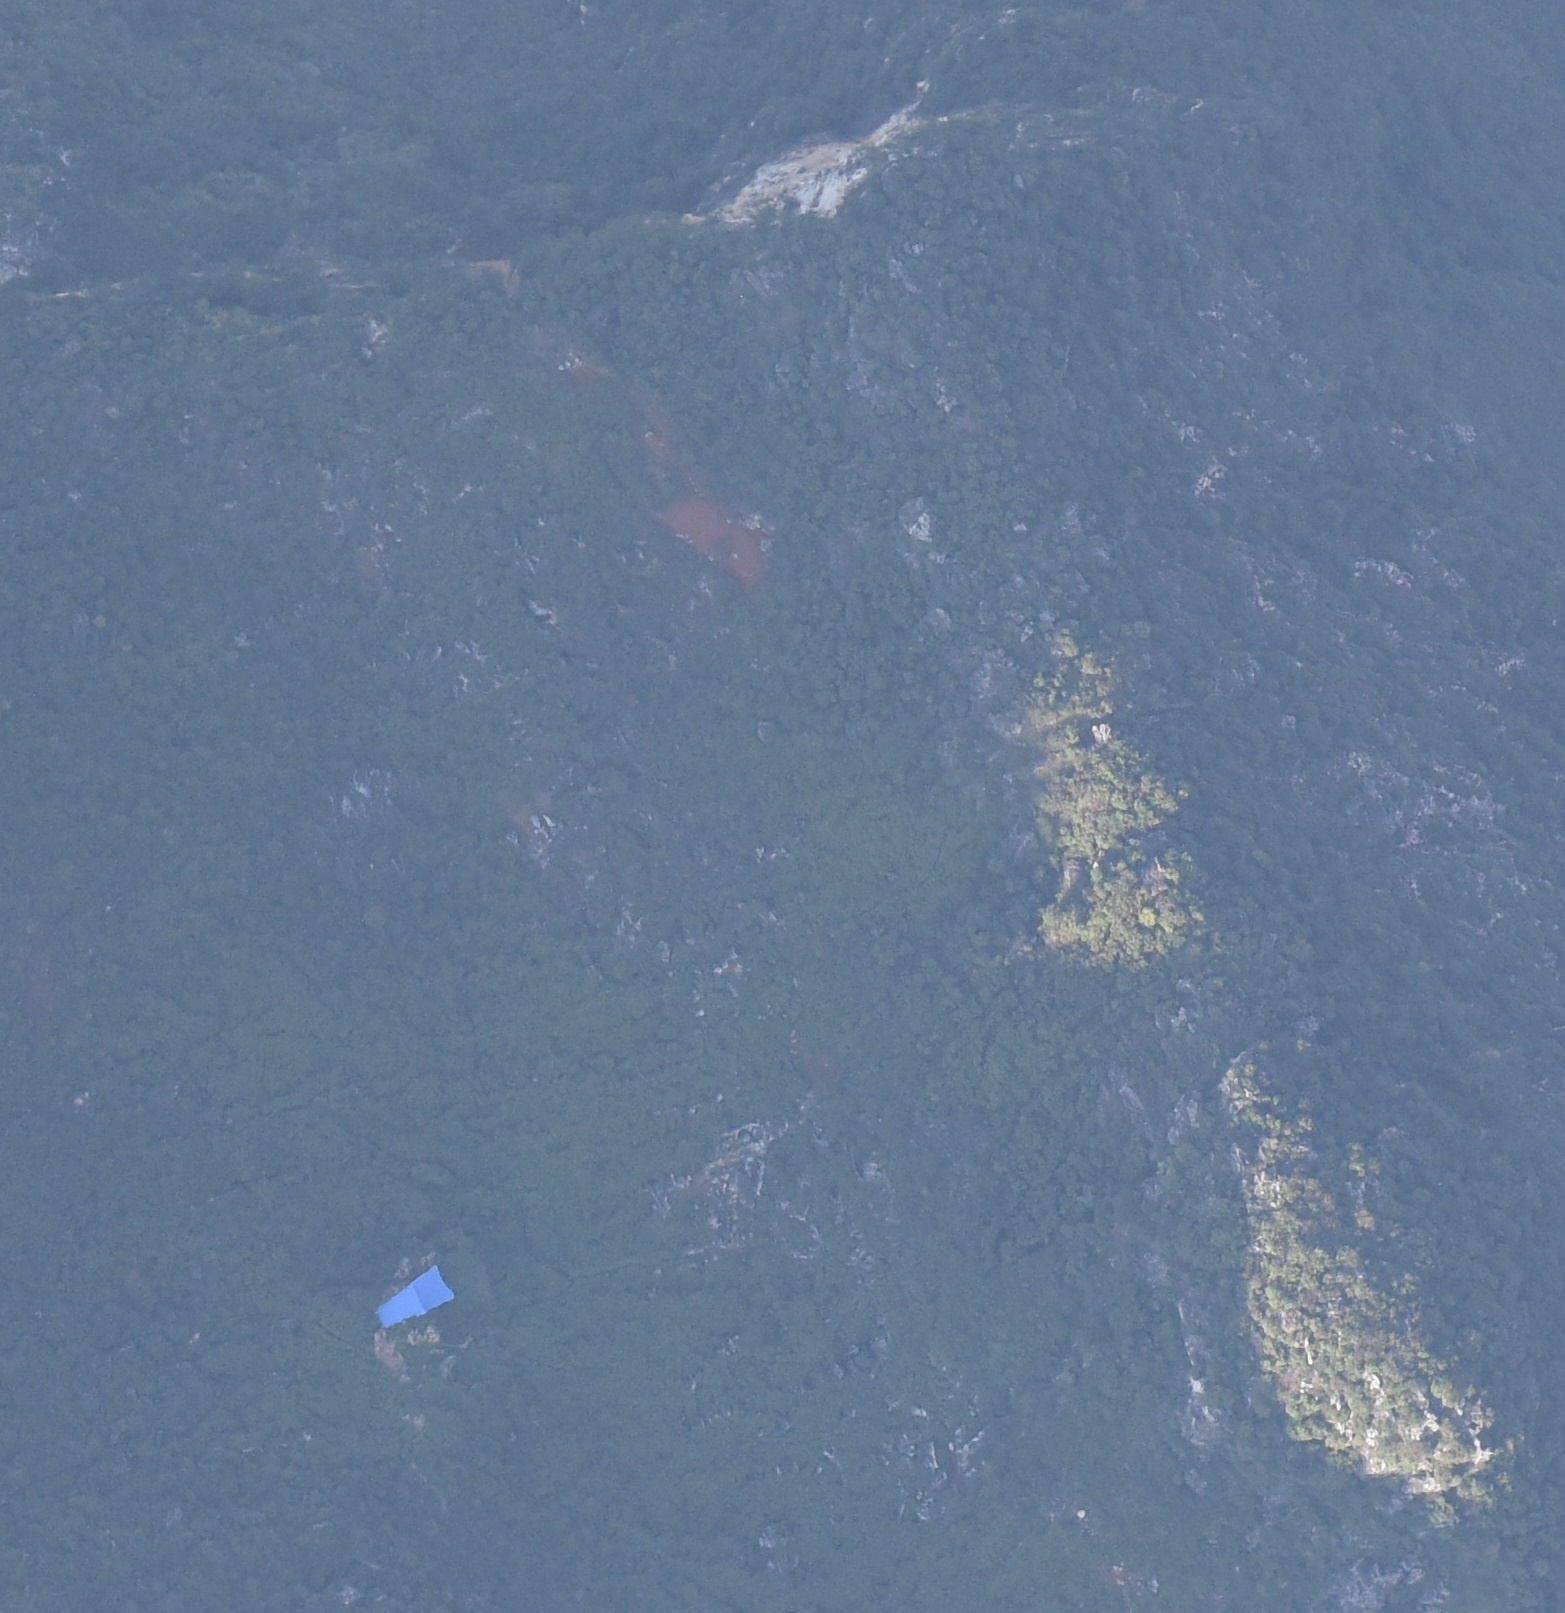prefabricated-house: (371, 1264, 456, 1336)
quarry: (708, 109, 933, 228)
